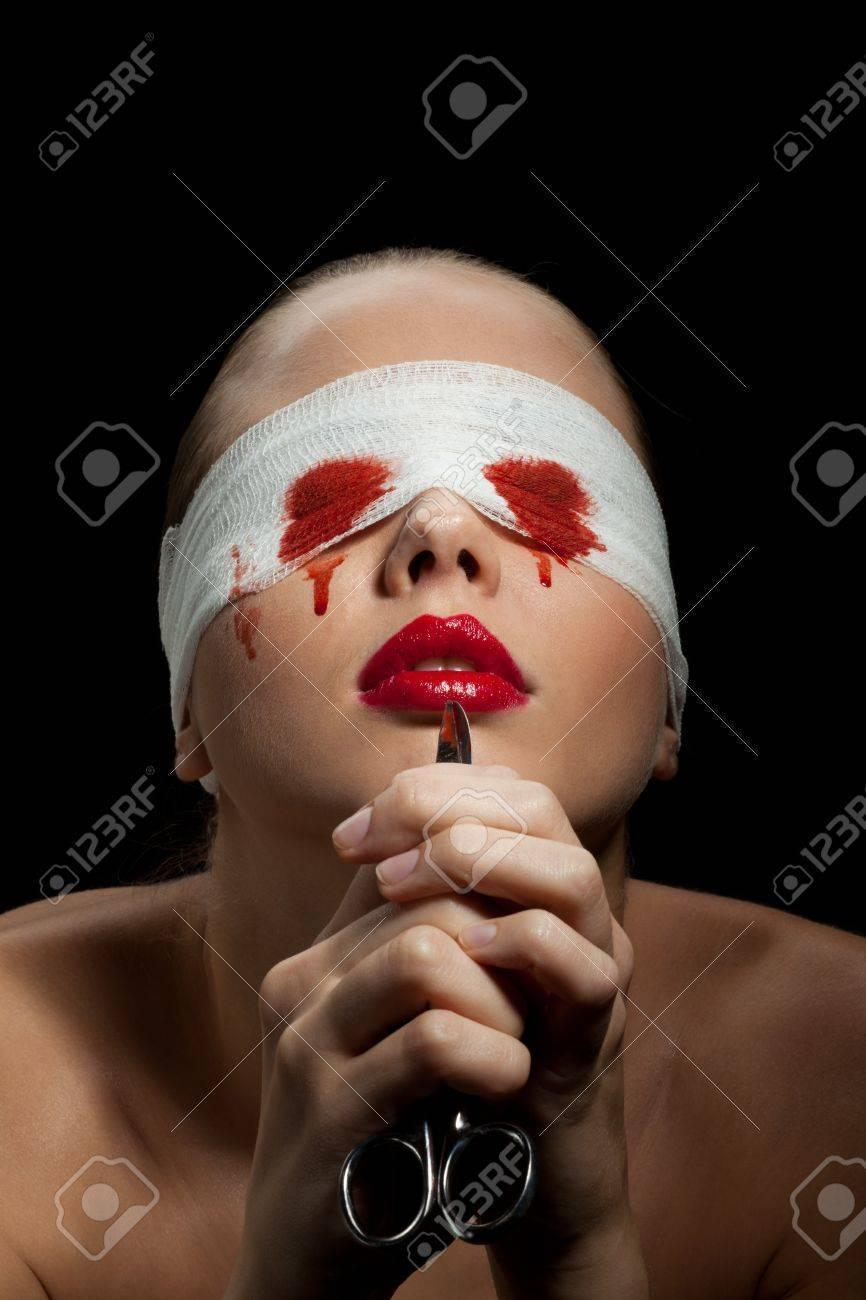Fire: (482, 457, 605, 602), (279, 456, 392, 561), (304, 555, 343, 616), (232, 596, 261, 660)
